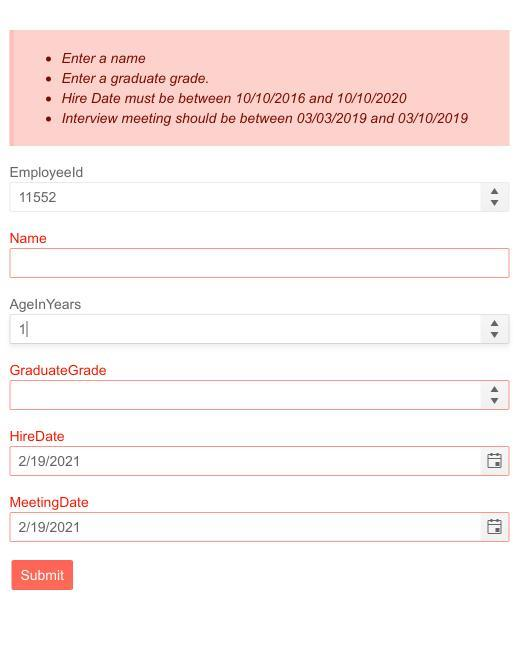button: (11, 558, 76, 592)
dropdown: (8, 179, 516, 218), (11, 314, 514, 347), (10, 380, 509, 411)
input: (8, 444, 513, 478), (8, 247, 512, 280), (8, 512, 509, 544)
label: (7, 363, 112, 377), (7, 494, 94, 510), (9, 165, 86, 177), (6, 427, 66, 442), (9, 299, 84, 310)
